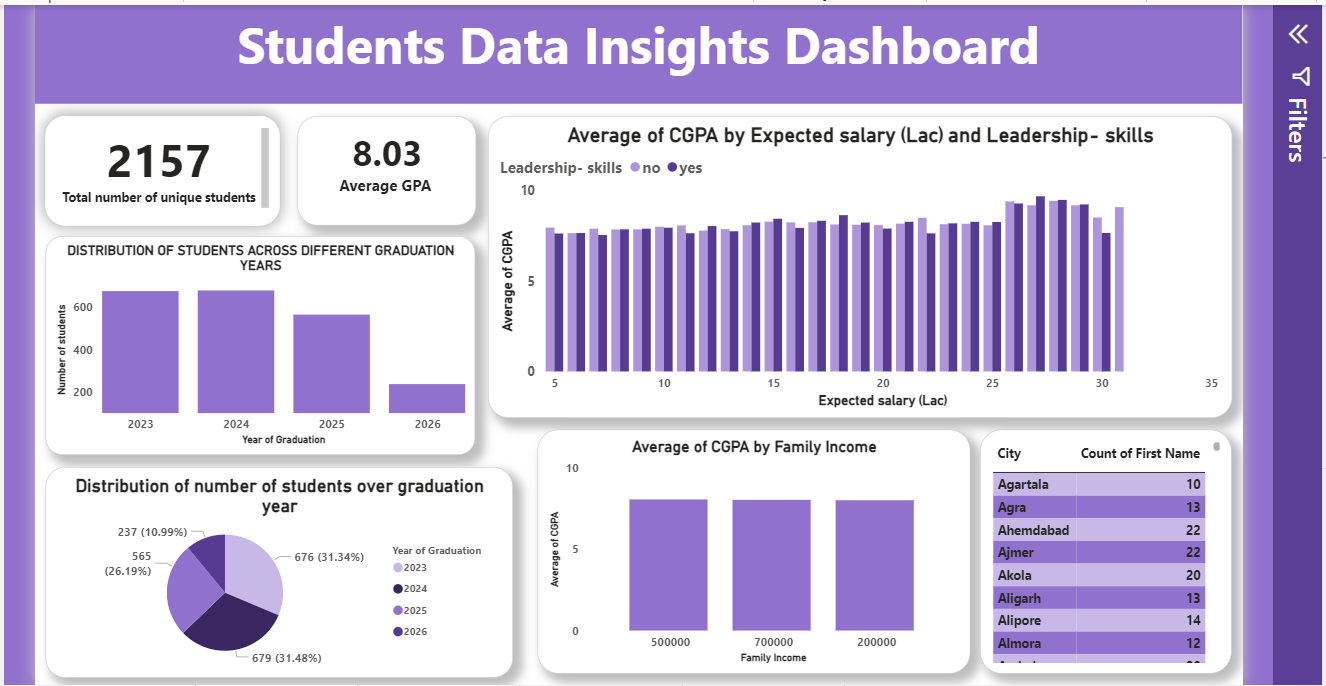

Layout of this report page (visuals, bound fields, positions):
{"tool":"powerbi","page":{"name":"Dashboard 1","canvas":[1280,720],"ordinal":0},"visuals":[{"type":"textbox","box":[11.1,117.6,247.9,116],"z":0},{"type":"textbox","box":[0,0,1279.5,104.9],"z":1000},{"type":"textbox","box":[11,503,248,150],"z":2000},{"type":"textbox","box":[278.1,117.6,189.1,116],"z":3000},{"type":"columnChart","title":"DISTRIBUTION OF STUDENTS ACROSS DIFFERENT GRADUATION YEARS","fields":{"Category":["All Events Data.Year of Graduation"],"Y":["CountNonNull(All Events Data.First Name)"]},"box":[11.7,245,455,231.7],"z":4000},{"type":"pieChart","title":"Distribution of number of students over graduation year","fields":{"Y":["CountNonNull(All Events Data.First Name)"],"Series":["All Events Data.Year of Graduation"]},"box":[11.1,484.8,495.9,224.1],"z":5000},{"type":"clusteredColumnChart","fields":{"Y":["Avg(All Events Data.CGPA)"],"Category":["All Events Data.Expected salary (Lac)"],"Series":["All Events Data.Leadership- skills"]},"box":[482.5,117.5,787.5,320],"z":6000},{"type":"columnChart","fields":{"Category":["All Events Data.Family Income"],"Y":["Avg(All Events Data.CGPA)"]},"box":[531.7,450,458.3,258.3],"z":7000},{"type":"tableEx","fields":{"Values":["All Events Data.City","All Events Data.First Name"]},"box":[1001.7,450,266.7,258.3],"z":8000}]}

Visuals, with their boxes on the page's 1280x720 design canvas (x1, y1, x2, y2). These are canvas units, not pixel positions in the 1326x686 screenshot, which may show the page scaled, cropped or inside an application window:
textbox: <box>11,118,259,234</box>
textbox: <box>0,0,1280,105</box>
textbox: <box>11,503,259,653</box>
textbox: <box>278,118,467,234</box>
"DISTRIBUTION OF STUDENTS ACROSS DIFFERENT GRADUATION YEARS" columnChart: <box>12,245,467,477</box>
"Distribution of number of students over graduation year" pieChart: <box>11,485,507,709</box>
clusteredColumnChart - Avg(All Events Data.CGPA) x All Events Data.Expected salary (Lac): <box>482,118,1270,438</box>
columnChart - All Events Data.Family Income x Avg(All Events Data.CGPA): <box>532,450,990,708</box>
tableEx - All Events Data.City x All Events Data.First Name: <box>1002,450,1268,708</box>
